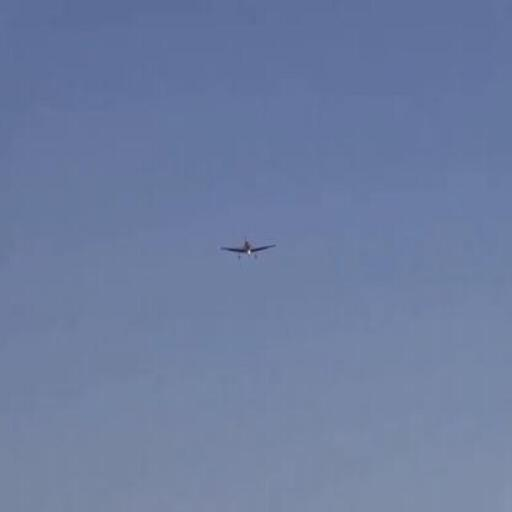aircraft: (220, 235, 278, 258)
